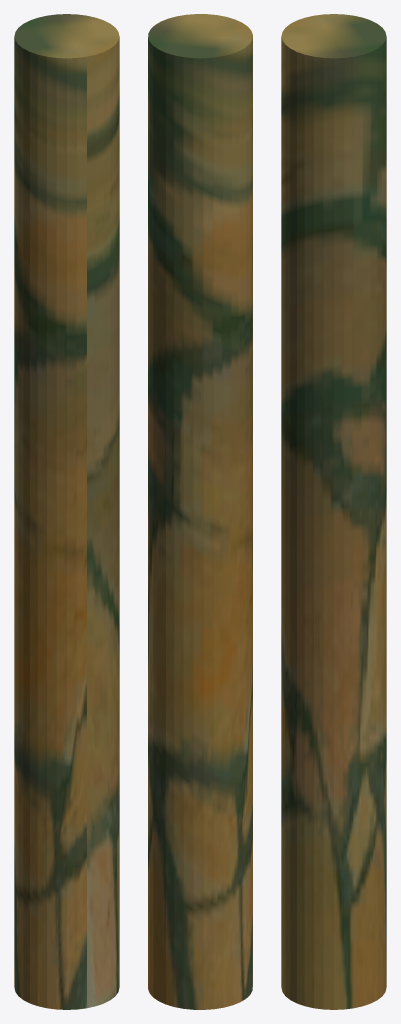
Rendered from branch.obj.
The picture shows the model from 3 angles, left to right: view 1: azimuth 90°, elevation 25°; view 2: azimuth 150°, elevation 25°; view 3: azimuth 270°, elevation 25°; orthographic projection.
Visible parts, largest first — view 1: Cylinder; view 2: Cylinder; view 3: Cylinder.
Boxes of the visible parts, box(x1,y1,x2,y2) form: Cylinder: box(14, 14, 119, 1009); Cylinder: box(148, 14, 252, 1009); Cylinder: box(281, 14, 386, 1009).
Size of the model in its own units: 0.2 by 2 by 0.2.
1 material, 1 textured.
